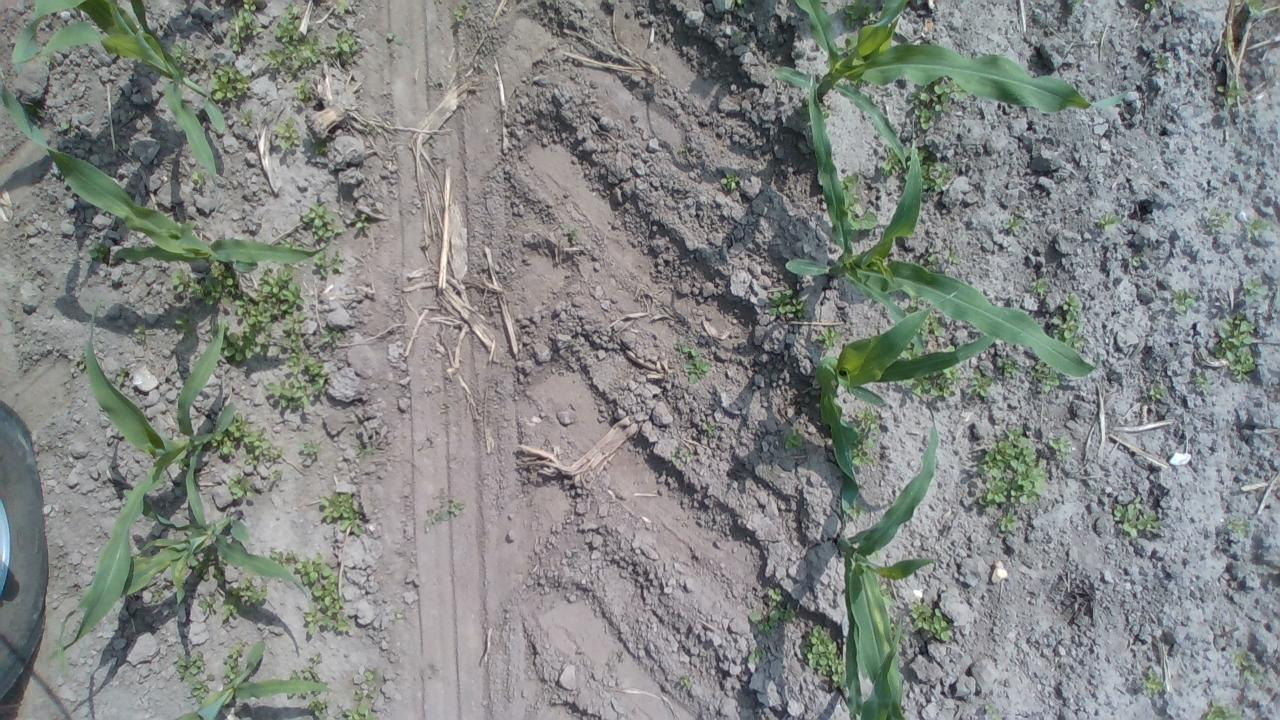Maize: (784, 73, 1102, 376), (54, 298, 240, 654), (0, 74, 328, 269), (766, 0, 1136, 164), (56, 448, 314, 667), (813, 293, 999, 519), (11, 0, 228, 180), (836, 393, 942, 720), (172, 639, 334, 720), (843, 622, 904, 720)
Weeds: (221, 264, 304, 363), (264, 313, 328, 409), (978, 428, 1045, 507), (296, 555, 354, 635), (264, 2, 321, 79), (212, 410, 284, 466), (1214, 310, 1260, 385), (912, 77, 968, 131), (170, 260, 234, 306), (804, 620, 846, 690), (1113, 494, 1166, 540), (220, 574, 270, 620), (749, 586, 796, 634), (1048, 292, 1084, 354), (318, 493, 368, 536), (898, 366, 962, 399), (848, 406, 882, 468), (342, 669, 382, 720), (174, 653, 212, 704), (910, 599, 954, 643), (228, 0, 264, 52), (300, 200, 346, 239), (210, 64, 254, 103), (188, 550, 228, 587), (768, 288, 807, 321), (286, 666, 326, 698), (680, 344, 711, 384), (919, 159, 954, 193), (426, 497, 464, 528), (844, 0, 882, 29), (1232, 650, 1266, 682), (172, 308, 200, 346), (276, 116, 305, 152), (1030, 360, 1060, 394), (314, 246, 344, 279), (170, 40, 206, 67), (222, 642, 245, 684), (816, 324, 849, 353), (926, 250, 960, 278), (914, 313, 946, 341), (1216, 78, 1248, 105), (801, 100, 832, 127), (1202, 701, 1244, 720), (1171, 286, 1199, 314), (228, 472, 257, 499), (839, 174, 860, 211), (967, 369, 994, 397), (879, 144, 901, 176), (1142, 669, 1166, 698), (335, 29, 360, 56), (783, 423, 807, 450), (850, 210, 879, 232), (140, 495, 164, 521), (879, 582, 899, 612), (1208, 209, 1232, 234), (1053, 434, 1073, 463), (1244, 218, 1269, 241), (1094, 211, 1121, 232), (271, 548, 298, 568), (85, 238, 108, 260), (1000, 357, 1024, 378), (896, 342, 922, 360), (670, 446, 694, 465), (1226, 517, 1250, 536), (319, 328, 344, 346), (719, 170, 741, 190), (1241, 0, 1266, 17), (999, 512, 1020, 532), (1192, 373, 1214, 392), (1246, 278, 1268, 297), (198, 593, 218, 613), (1030, 277, 1050, 297), (293, 78, 313, 98), (296, 440, 322, 455), (1003, 216, 1026, 232), (278, 238, 306, 251), (309, 700, 327, 720), (984, 702, 1004, 720), (238, 107, 256, 127), (1066, 0, 1086, 17), (455, 2, 471, 23), (70, 352, 88, 370), (386, 30, 404, 48), (353, 446, 372, 463), (190, 170, 208, 187), (748, 646, 764, 664), (1150, 384, 1168, 400), (354, 212, 370, 230), (132, 322, 146, 342), (1154, 52, 1170, 69), (333, 0, 352, 14), (116, 366, 129, 382), (1144, 0, 1160, 13), (312, 142, 329, 154), (40, 52, 54, 66), (852, 505, 867, 518), (1130, 253, 1143, 268), (270, 468, 284, 481), (703, 421, 717, 434), (151, 590, 165, 602), (850, 80, 871, 88), (890, 622, 899, 640), (0, 68, 12, 80), (309, 652, 321, 664), (679, 677, 690, 690), (57, 120, 71, 130), (916, 148, 927, 160), (941, 344, 956, 352), (729, 0, 745, 7), (736, 31, 746, 41), (872, 550, 882, 559), (569, 232, 578, 240), (12, 200, 18, 208)
